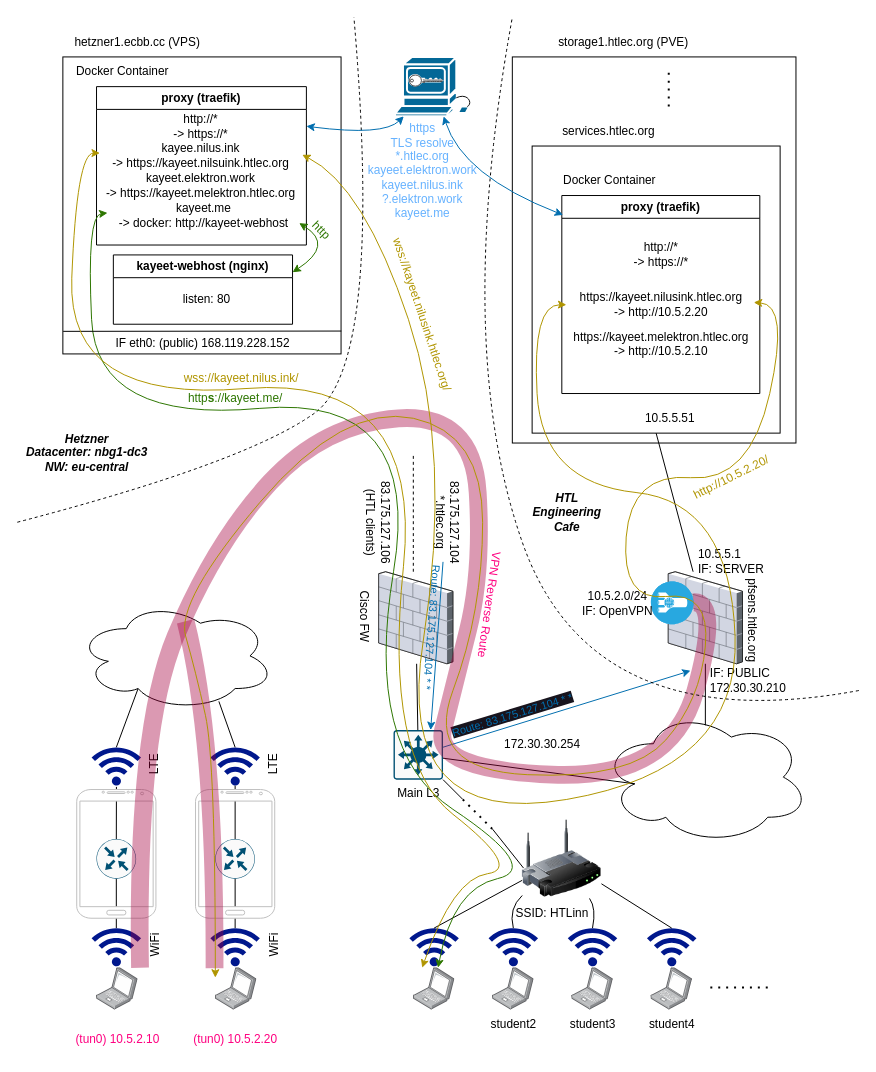
The diagram is 876 pixels wide and 1072 high, and some of its shapes have lost their labels. Each missing label, with the centre of its shape:
elektronlab: the point at 117,988
LE TLS Challange Server: the point at 434,86
LTE Carrier CGNAT: the point at 175,655
nilusink: the point at 235,988
student1: the point at 433,988
Transfer Network 172.30.30.0/24: the point at 704,776
